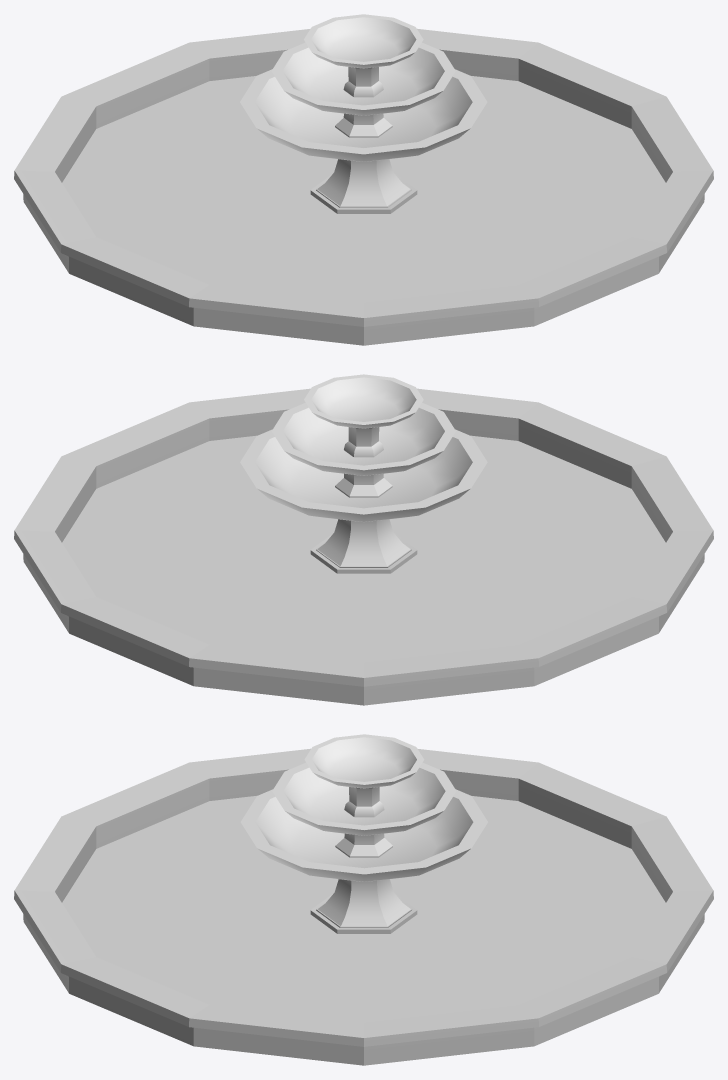
The model's file is PancuranAir.fbx.
3 renders of one model, top to bottom at view 1: azimuth 30°, elevation 25°; view 2: azimuth 150°, elevation 25°; view 3: azimuth 270°, elevation 25°, orthographic.
Parts seen in each view (by area): view 1: Pancuran3_LOD0, Pancuran2_LOD0, Pancuran1_LOD0; view 2: Pancuran3_LOD0, Pancuran2_LOD0, Pancuran1_LOD0; view 3: Pancuran3_LOD0, Pancuran2_LOD0, Pancuran1_LOD0.
Boxes of the visible parts, box(x1,y1,x2,y2) form: Pancuran3_LOD0: box(14, 28, 713, 345); Pancuran2_LOD0: box(240, 14, 487, 161); Pancuran1_LOD0: box(310, 67, 417, 213); Pancuran3_LOD0: box(14, 388, 713, 705); Pancuran2_LOD0: box(240, 374, 487, 521); Pancuran1_LOD0: box(310, 427, 417, 573); Pancuran3_LOD0: box(14, 748, 713, 1065); Pancuran2_LOD0: box(240, 734, 487, 881); Pancuran1_LOD0: box(310, 787, 417, 933).
Size of what is drawn, in the model's own units: 1651 by 422 by 1651.
